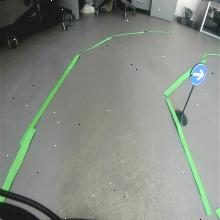right: (189, 63, 207, 85)
